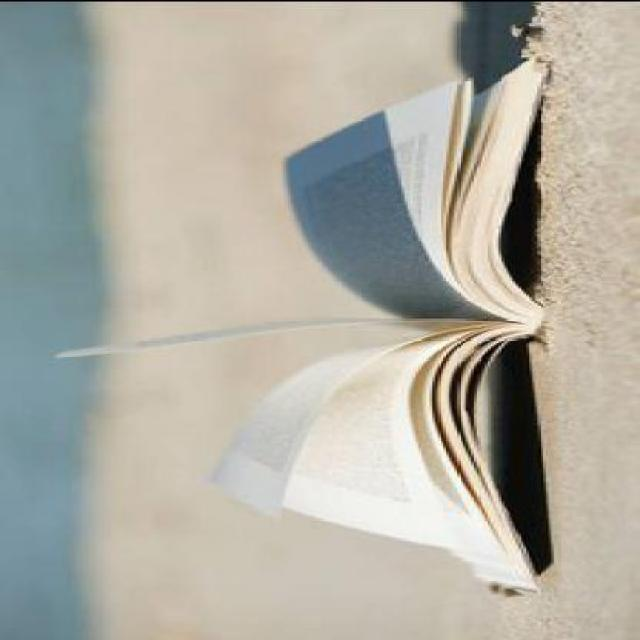book: (37, 74, 634, 625)
